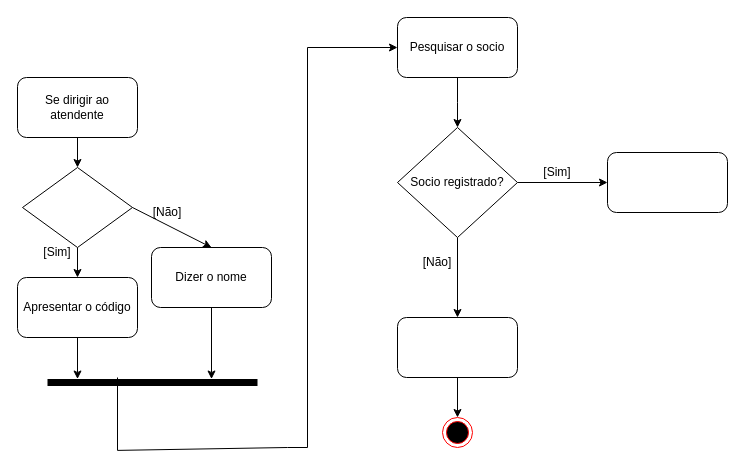
Some shapes in this 745 by 476 pixel diagram are drawn without their labels. Each missing label, with the box of its shape:
Lembrou do código?: (22, 166, 132, 248)
Locação recusada: (396, 316, 518, 378)
